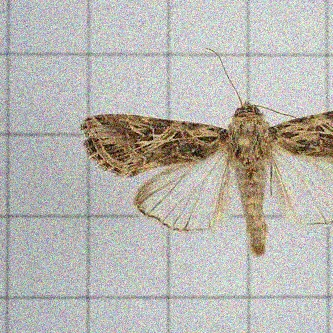Spodoptera litura: (80, 48, 333, 258)
